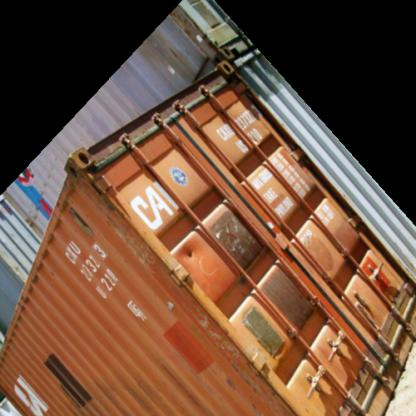Damage: (122, 220, 193, 320), (66, 158, 137, 235), (203, 312, 265, 382)
